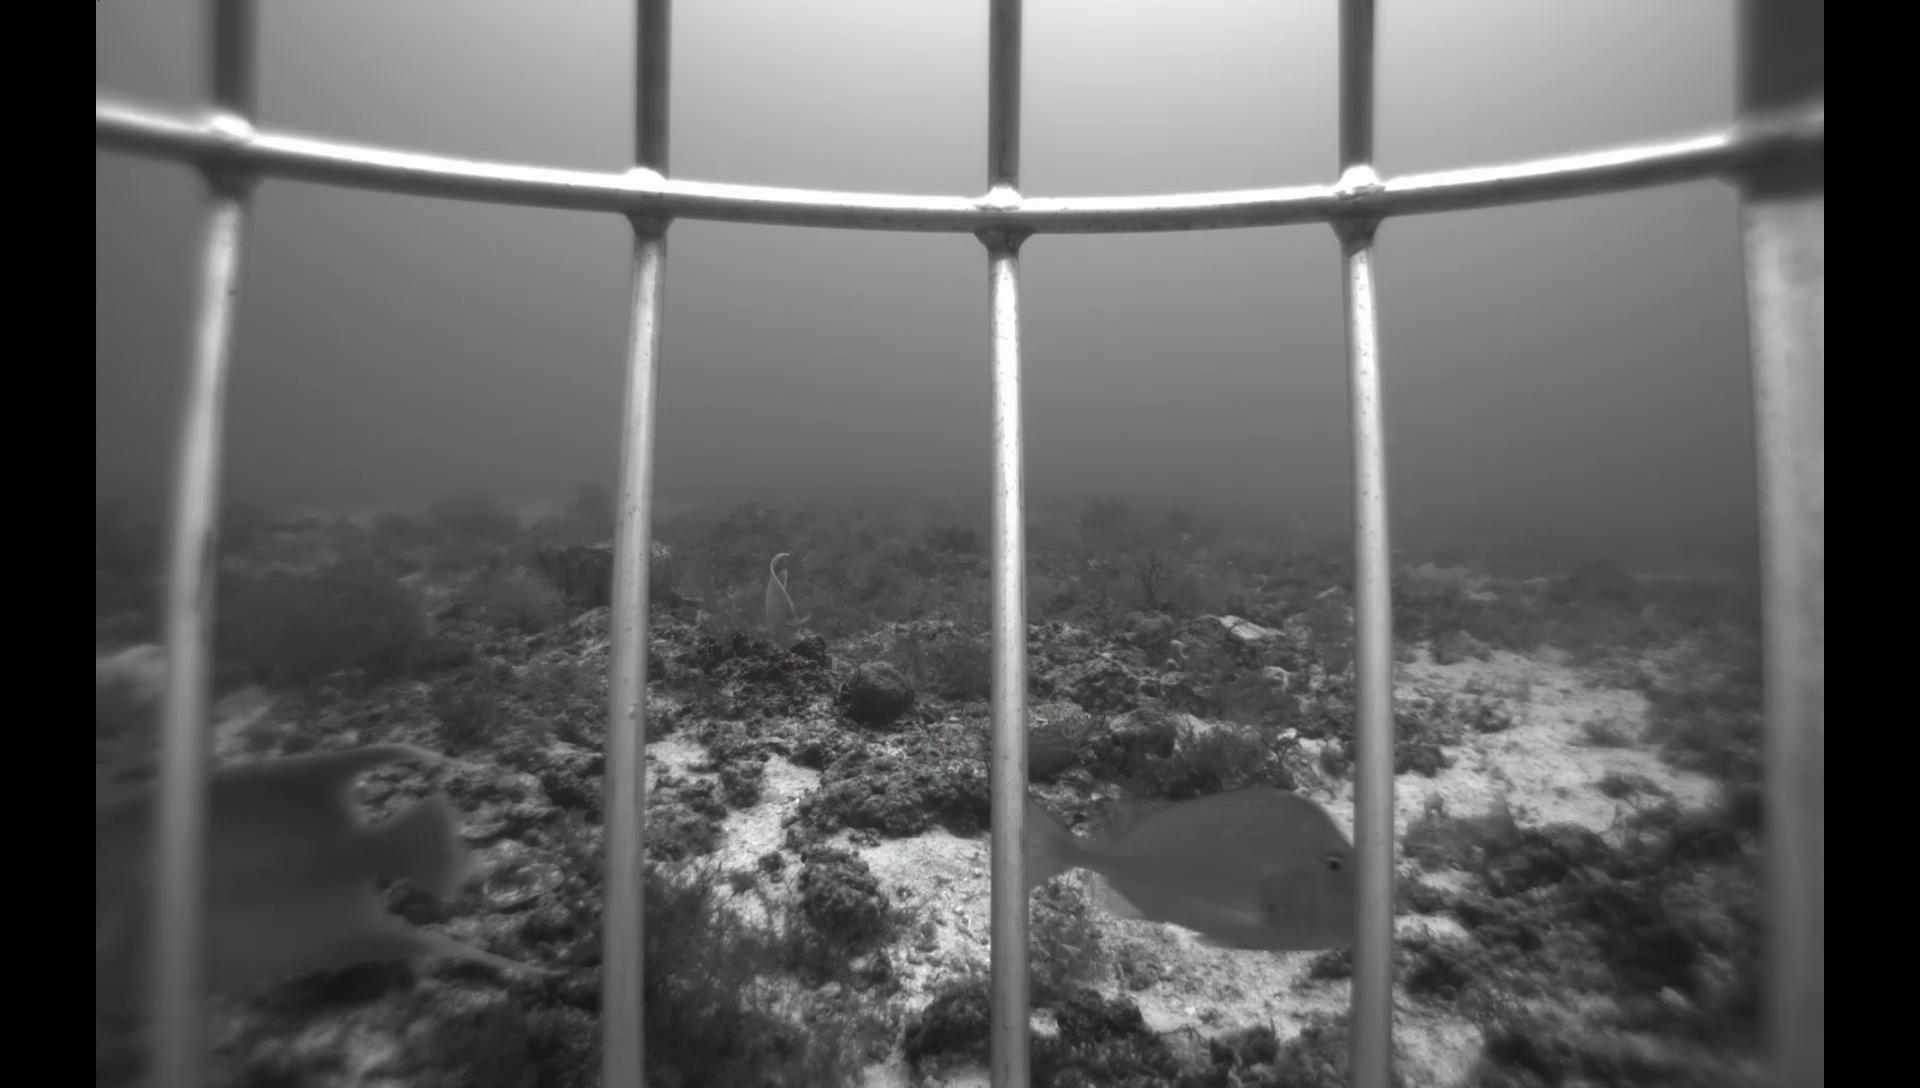CALAMUSNODOSUS-170210608: (1019, 770, 1358, 960)
HOLACANTHUSBERMUDENSIS-170290102: (99, 736, 583, 1034), (745, 546, 823, 658)
MYCTEROPERCAPHENAX-170022105: (843, 510, 886, 555)
